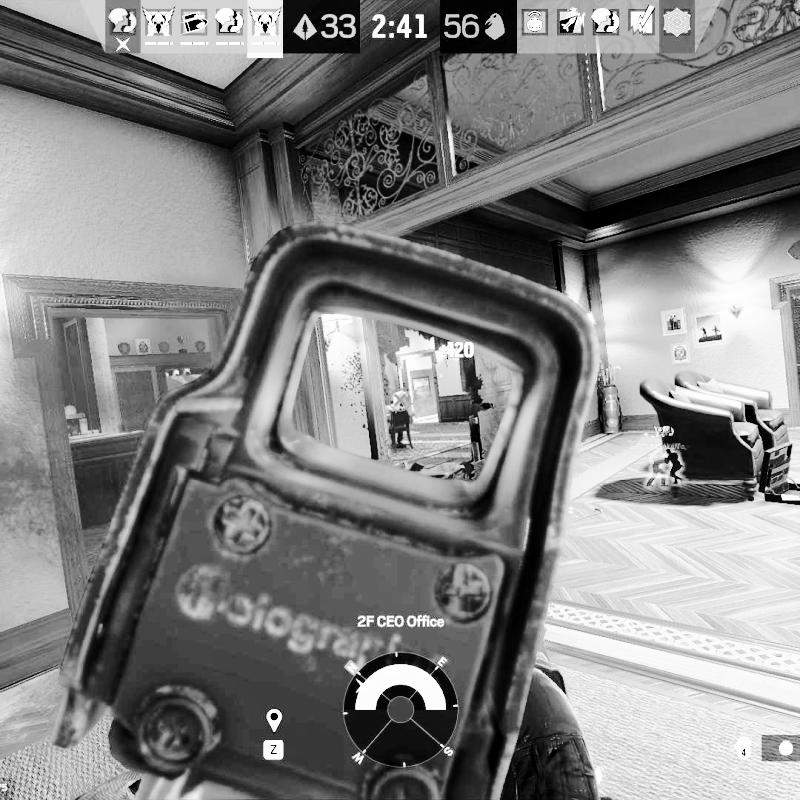Friend_label: (629, 423, 676, 451), (648, 424, 686, 450)
